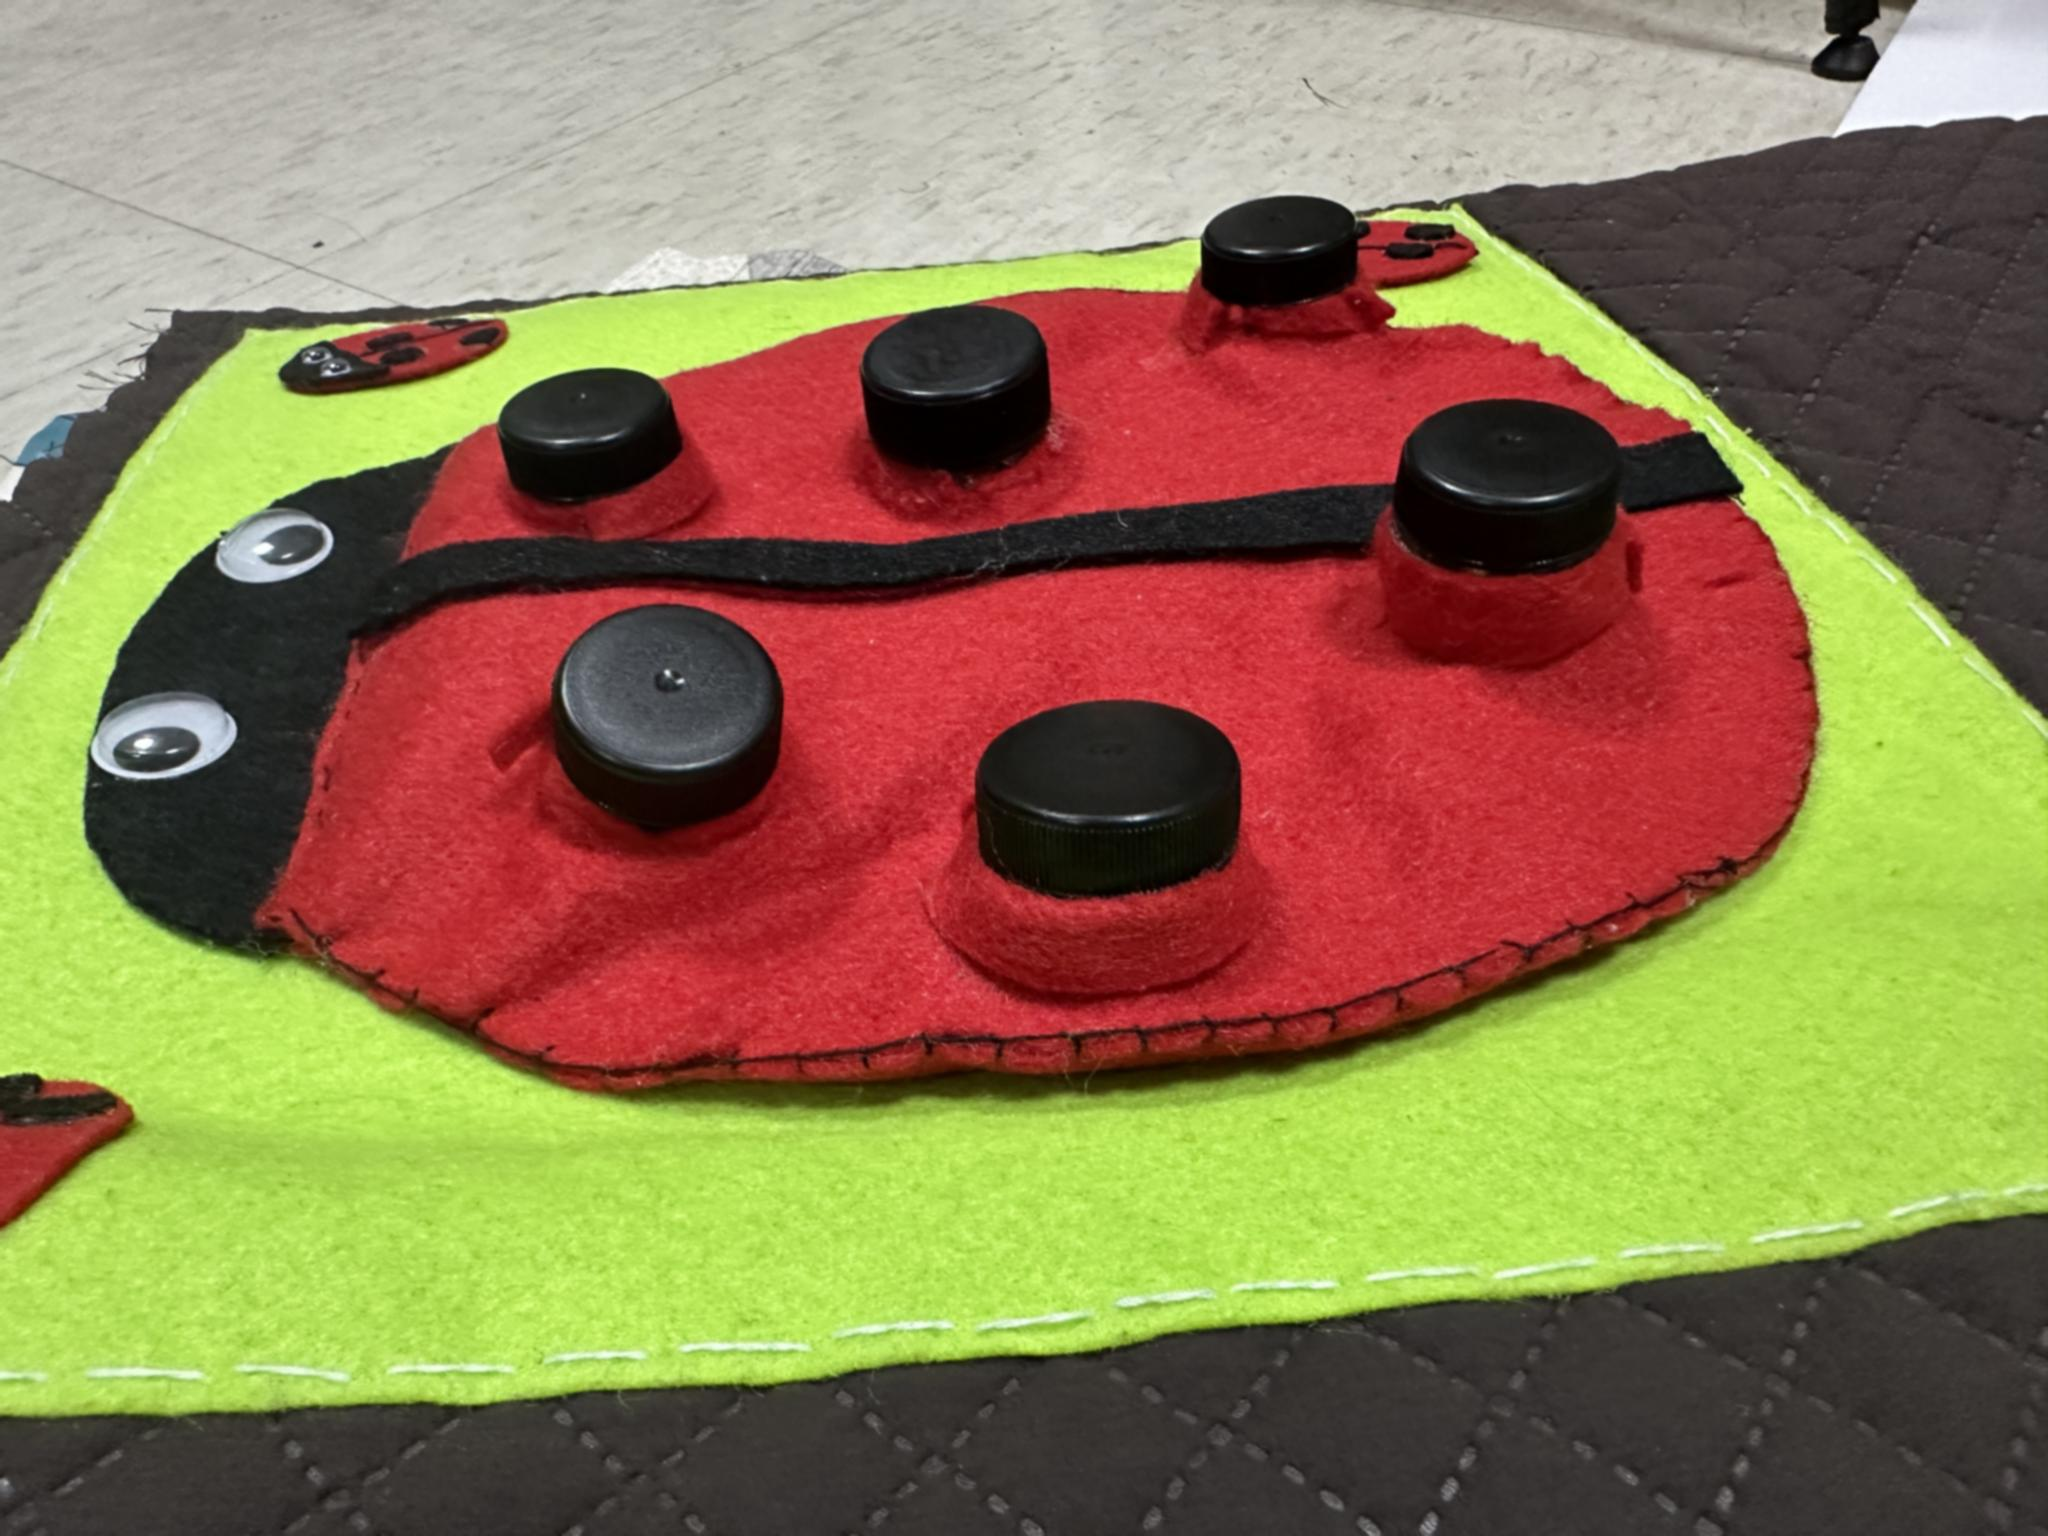cap_ok: (910, 694, 1276, 1008), (1364, 379, 1653, 681), (518, 594, 816, 862), (476, 357, 751, 555), (843, 300, 1087, 516), (1180, 186, 1401, 366)
